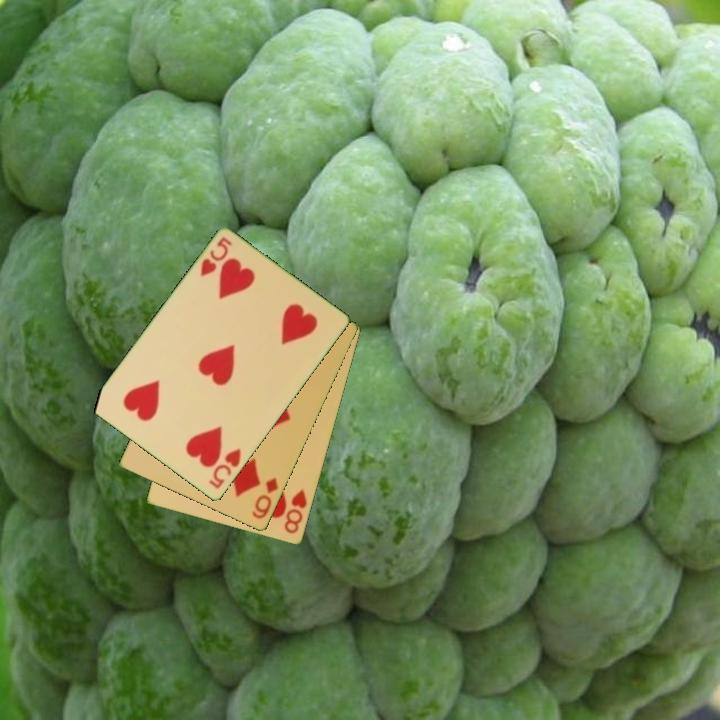5h: (205, 445, 244, 492), (197, 233, 235, 280)
6d: (249, 474, 281, 522)
8h: (281, 486, 310, 537)
